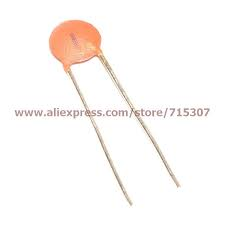ceramic capacitor: (24, 6, 143, 87)
